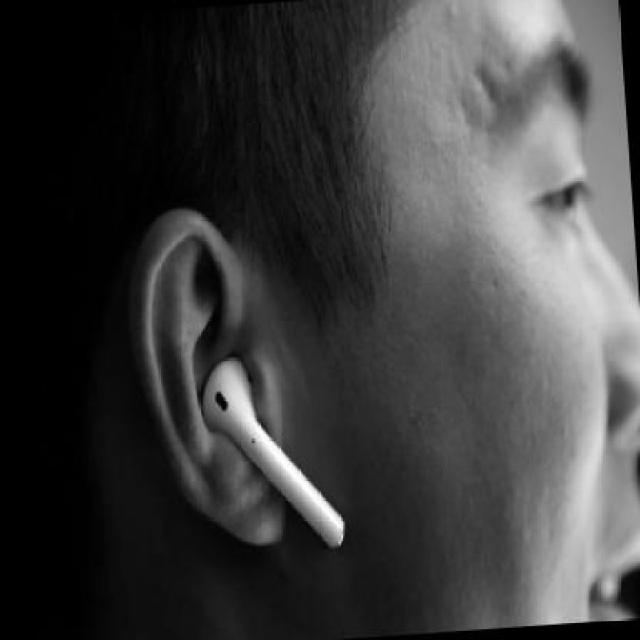earphone: (189, 346, 364, 554)
